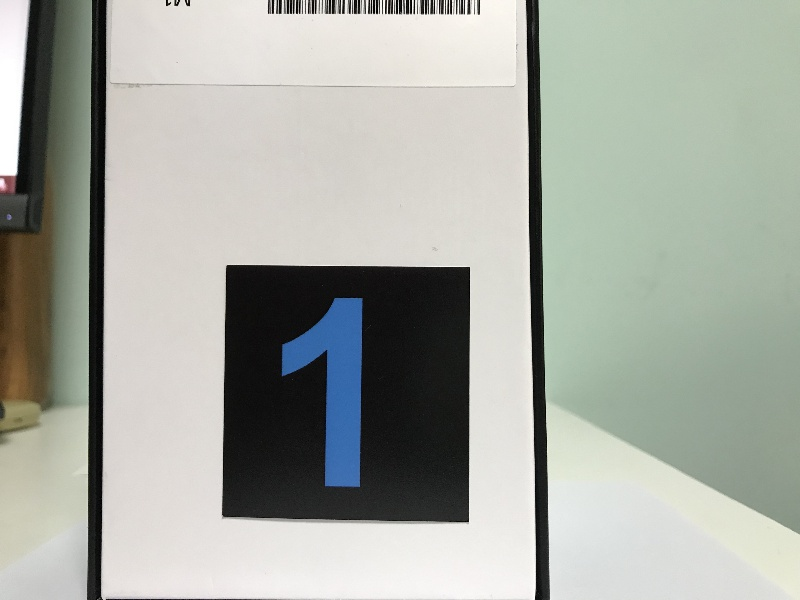One-6: (229, 267, 468, 516)
